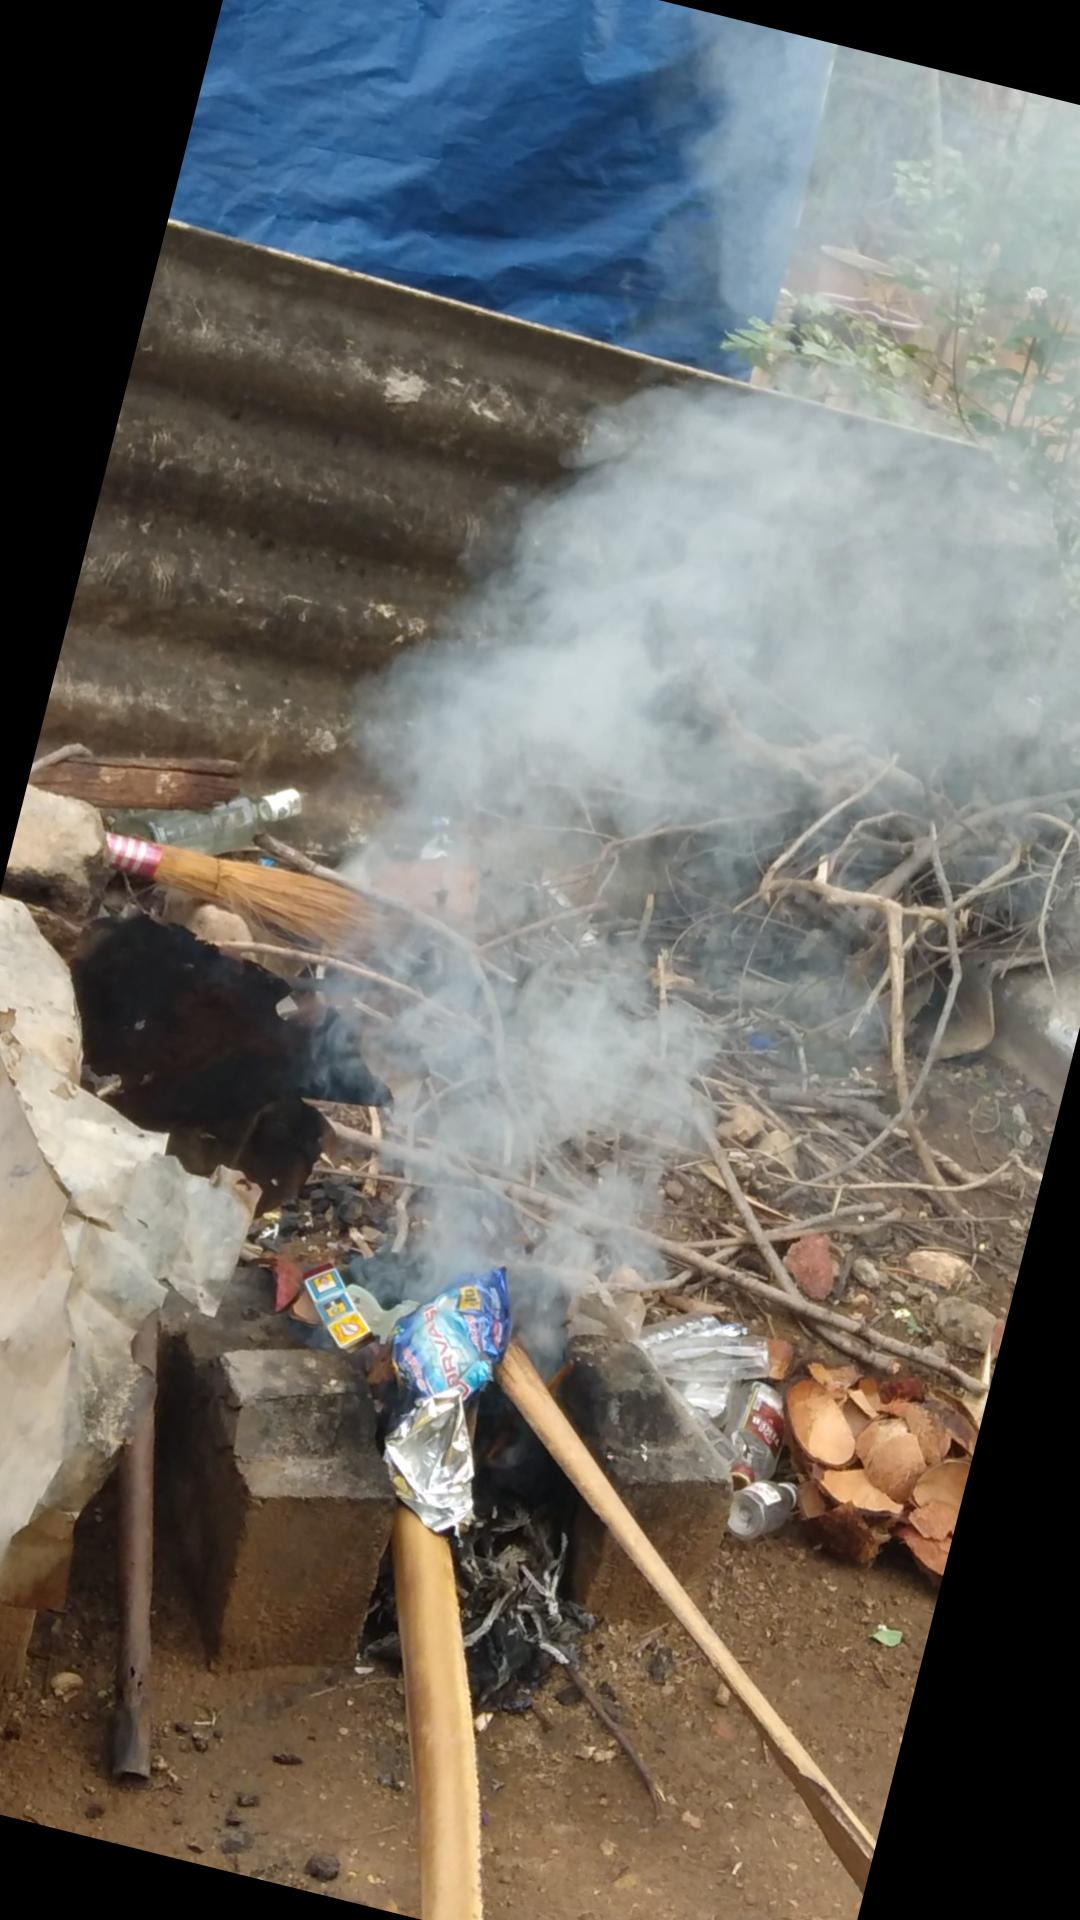Smoke: (157, 91, 1080, 1642)
